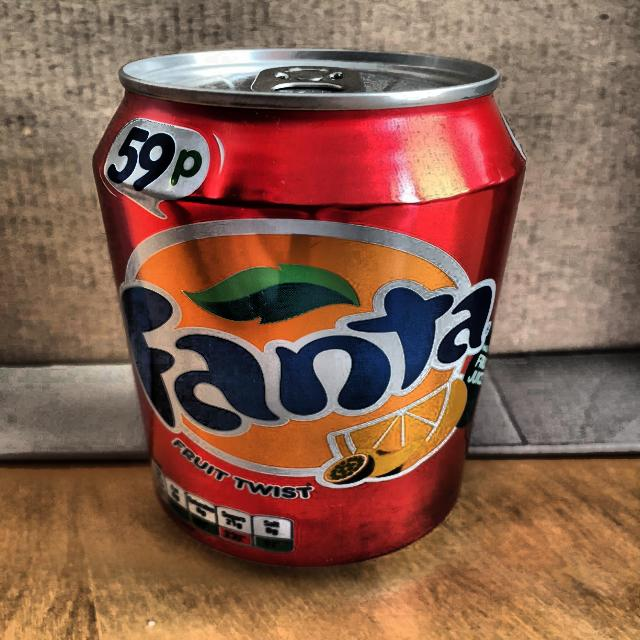Cans: (81, 38, 536, 580)
